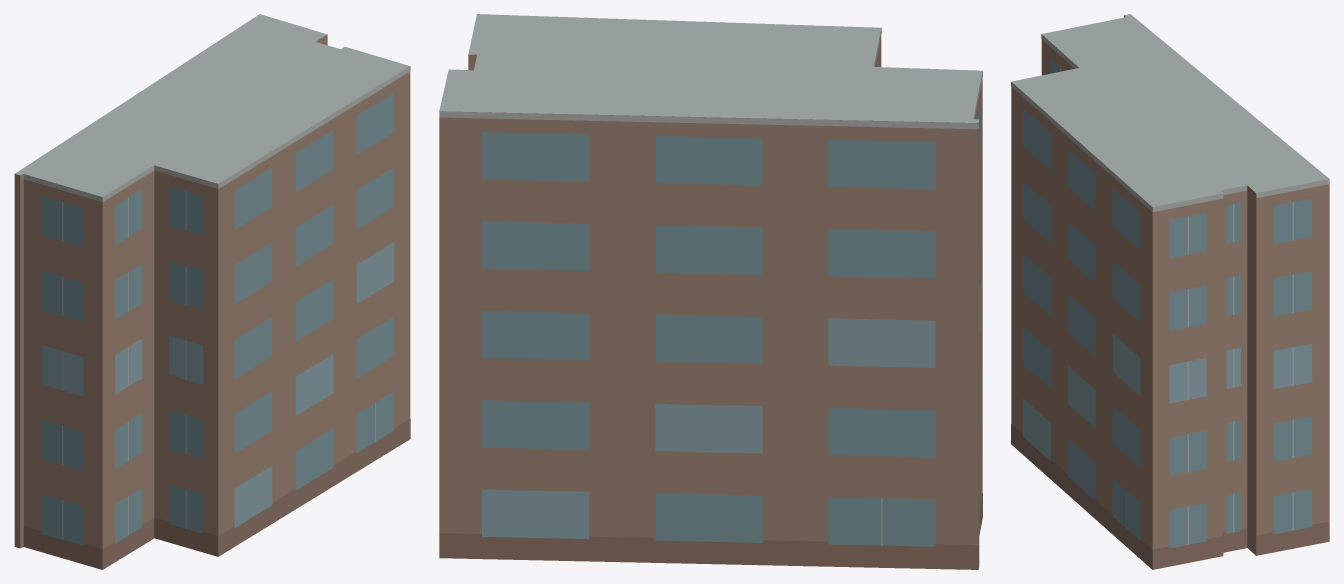
Rendered from survey-upis-32593282.glb.
3 views of the same model, side by side, from view 1: azimuth 30°, elevation 25°; view 2: azimuth 150°, elevation 25°; view 3: azimuth 270°, elevation 25° (orthographic). The views are drawn at different scales.
Visible parts, largest first — view 1: survey-upis-32593282.tmp; view 2: survey-upis-32593282.tmp; view 3: survey-upis-32593282.tmp.
Boxes of the visible parts, x1,y1,x2,y2 form: survey-upis-32593282.tmp: [14, 14, 410, 569]; survey-upis-32593282.tmp: [439, 14, 982, 569]; survey-upis-32593282.tmp: [1011, 14, 1329, 569].
Bounding box in the file's own units: 20.01 × 17.5 × 13.94.
